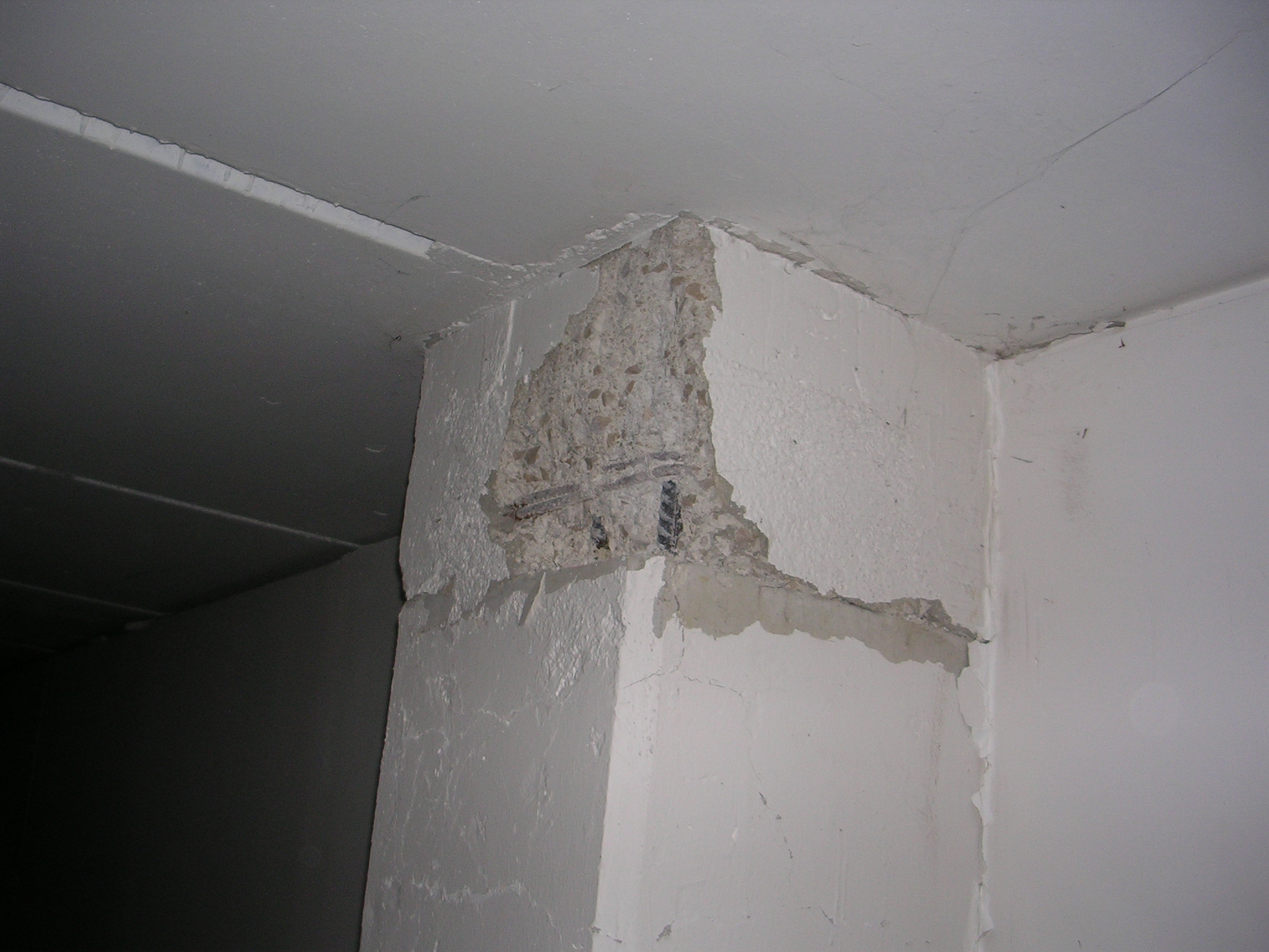Crack: (626, 654, 962, 939), (385, 545, 998, 658)
Spalling: (485, 245, 762, 572)
